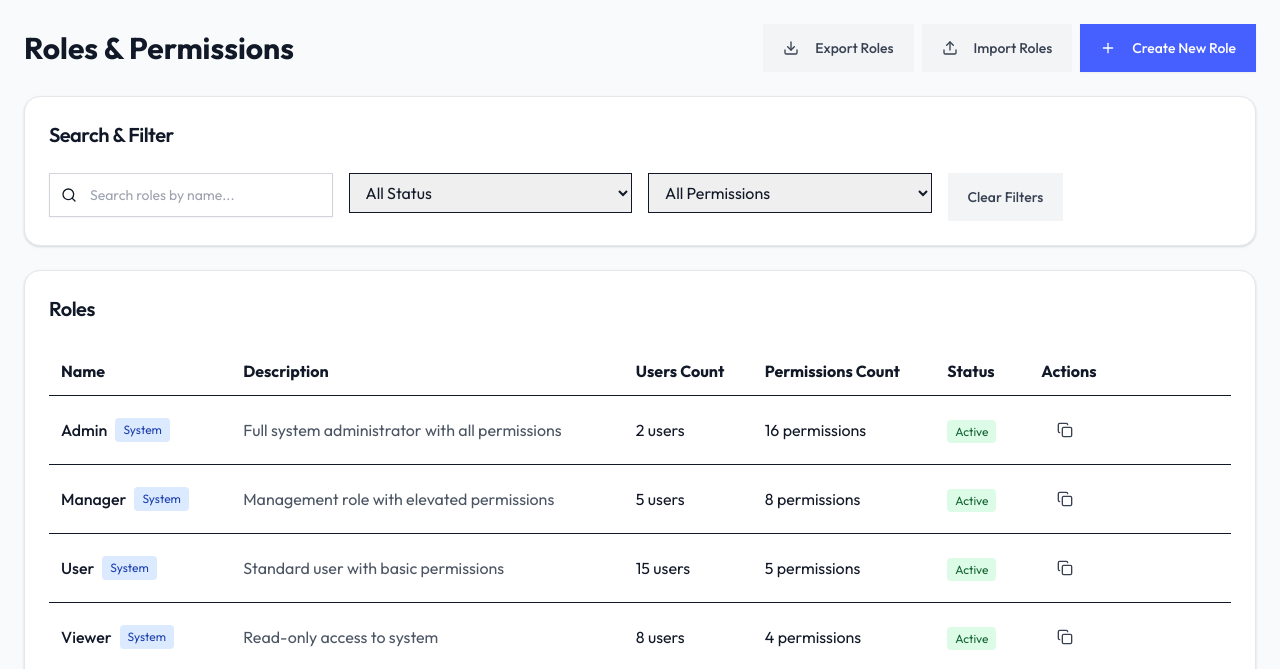
it: RolesPermissionsPage › Search and Filter Functionality › should filter roles by name search
In the field with test id "roles-search-input": (191, 195) [49,173,332,217], type "Admin"
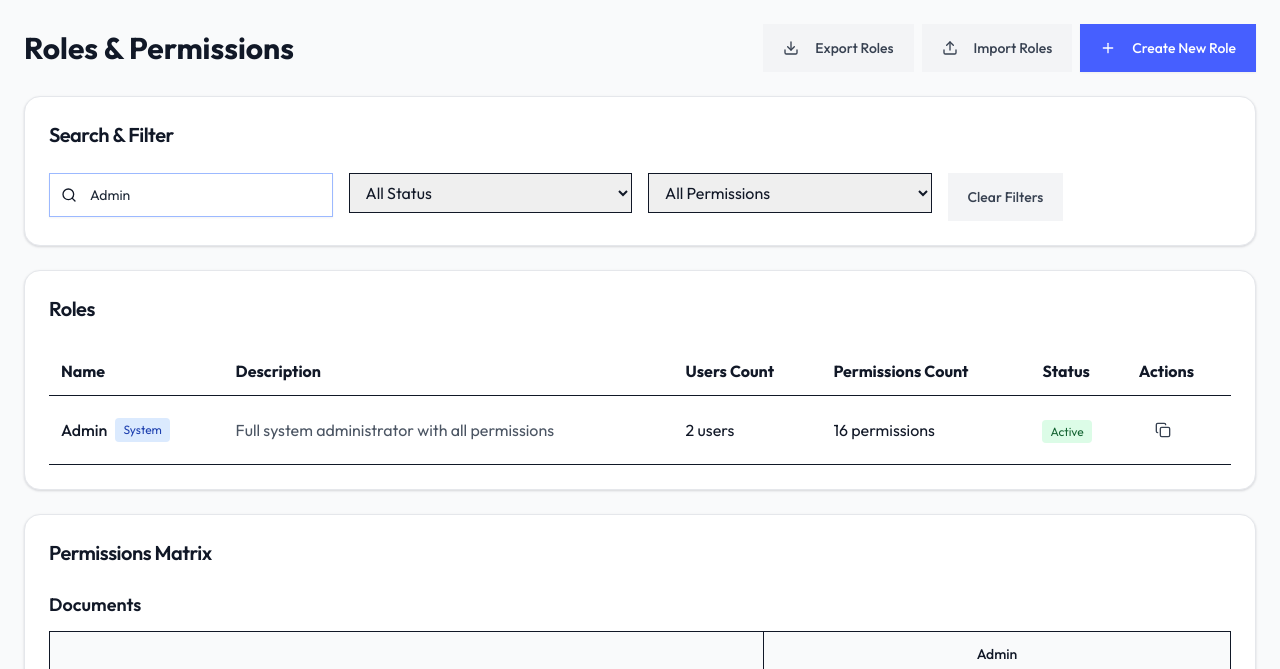
Check: the row with test id "role-row-admin" is shown, box [49,396,1231,464]
Check: the row with test id "role-row-user" is gone
